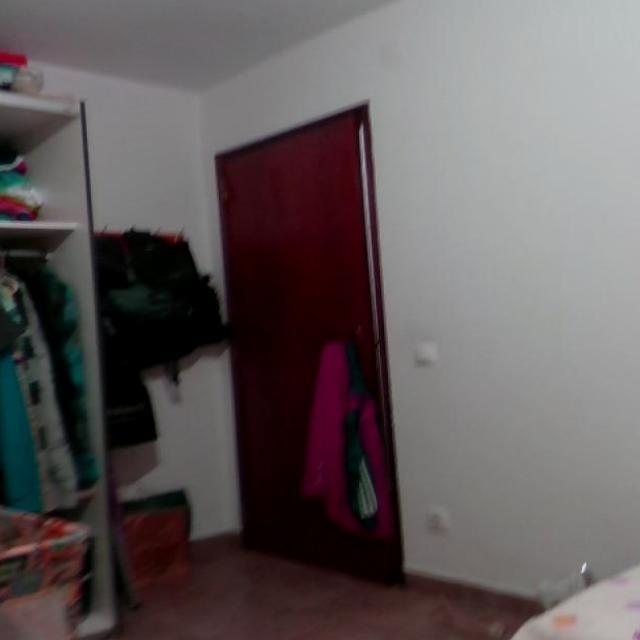door: (213, 99, 405, 585)
